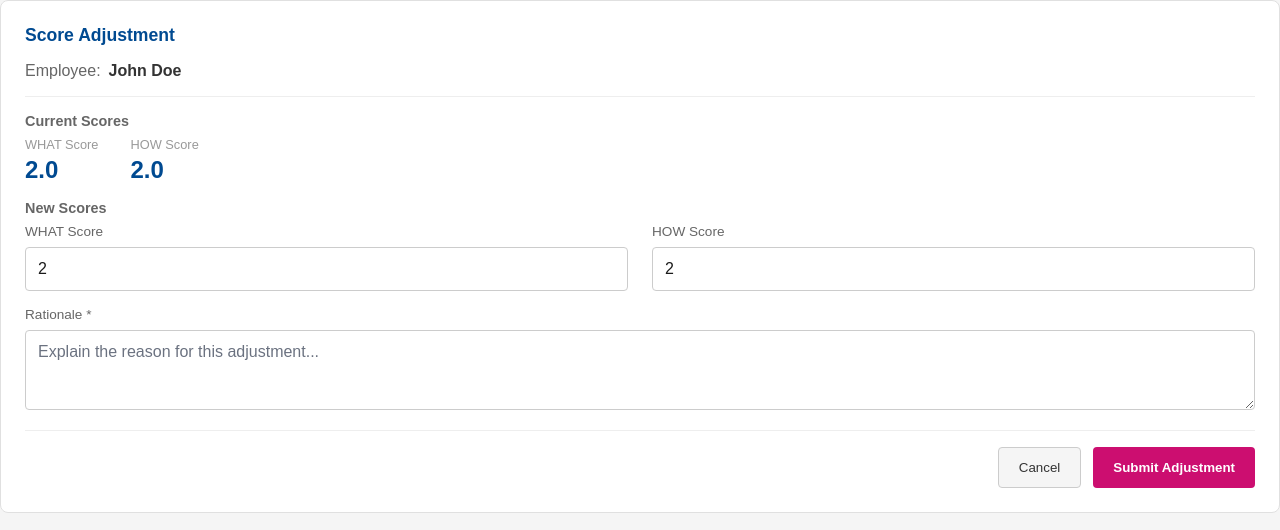
Test: ScoreAdjustmentPanel › score change indicator › should show change indicator when HOW score differs
Replace the text in the number field named "howScore" with "2.5". click: (954, 269)
box: [652, 247, 1255, 291]
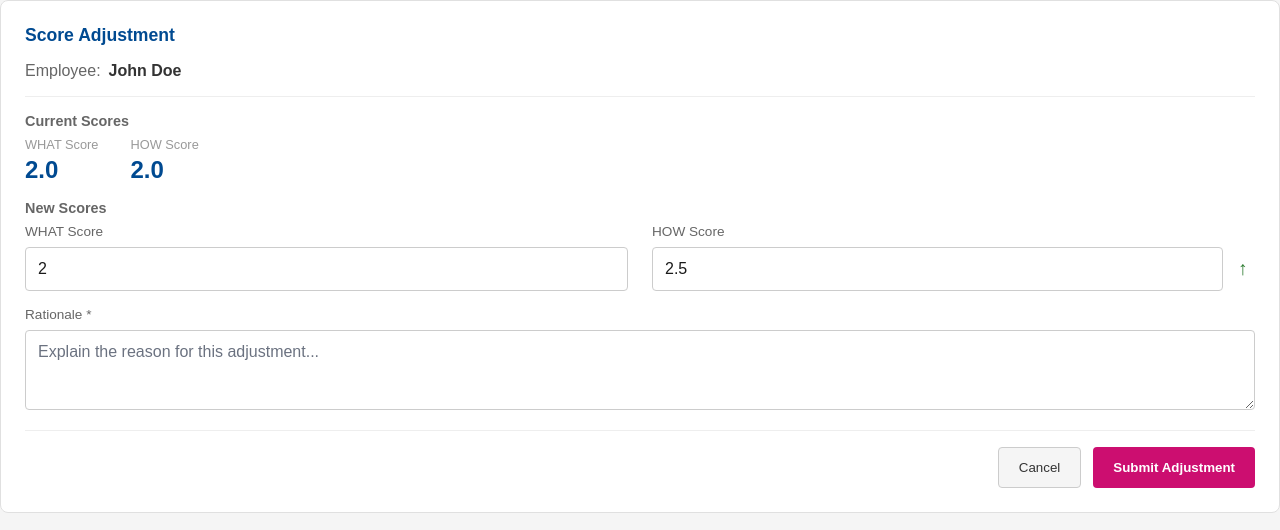
Check: the text "↑" is shown, box [1238, 258, 1248, 279]
